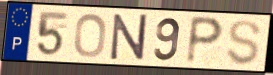5: (37, 10, 71, 57)
9: (153, 16, 181, 62)
N: (109, 13, 149, 62)
O: (73, 12, 109, 60)
P: (183, 14, 226, 67)
S: (224, 18, 263, 67)
